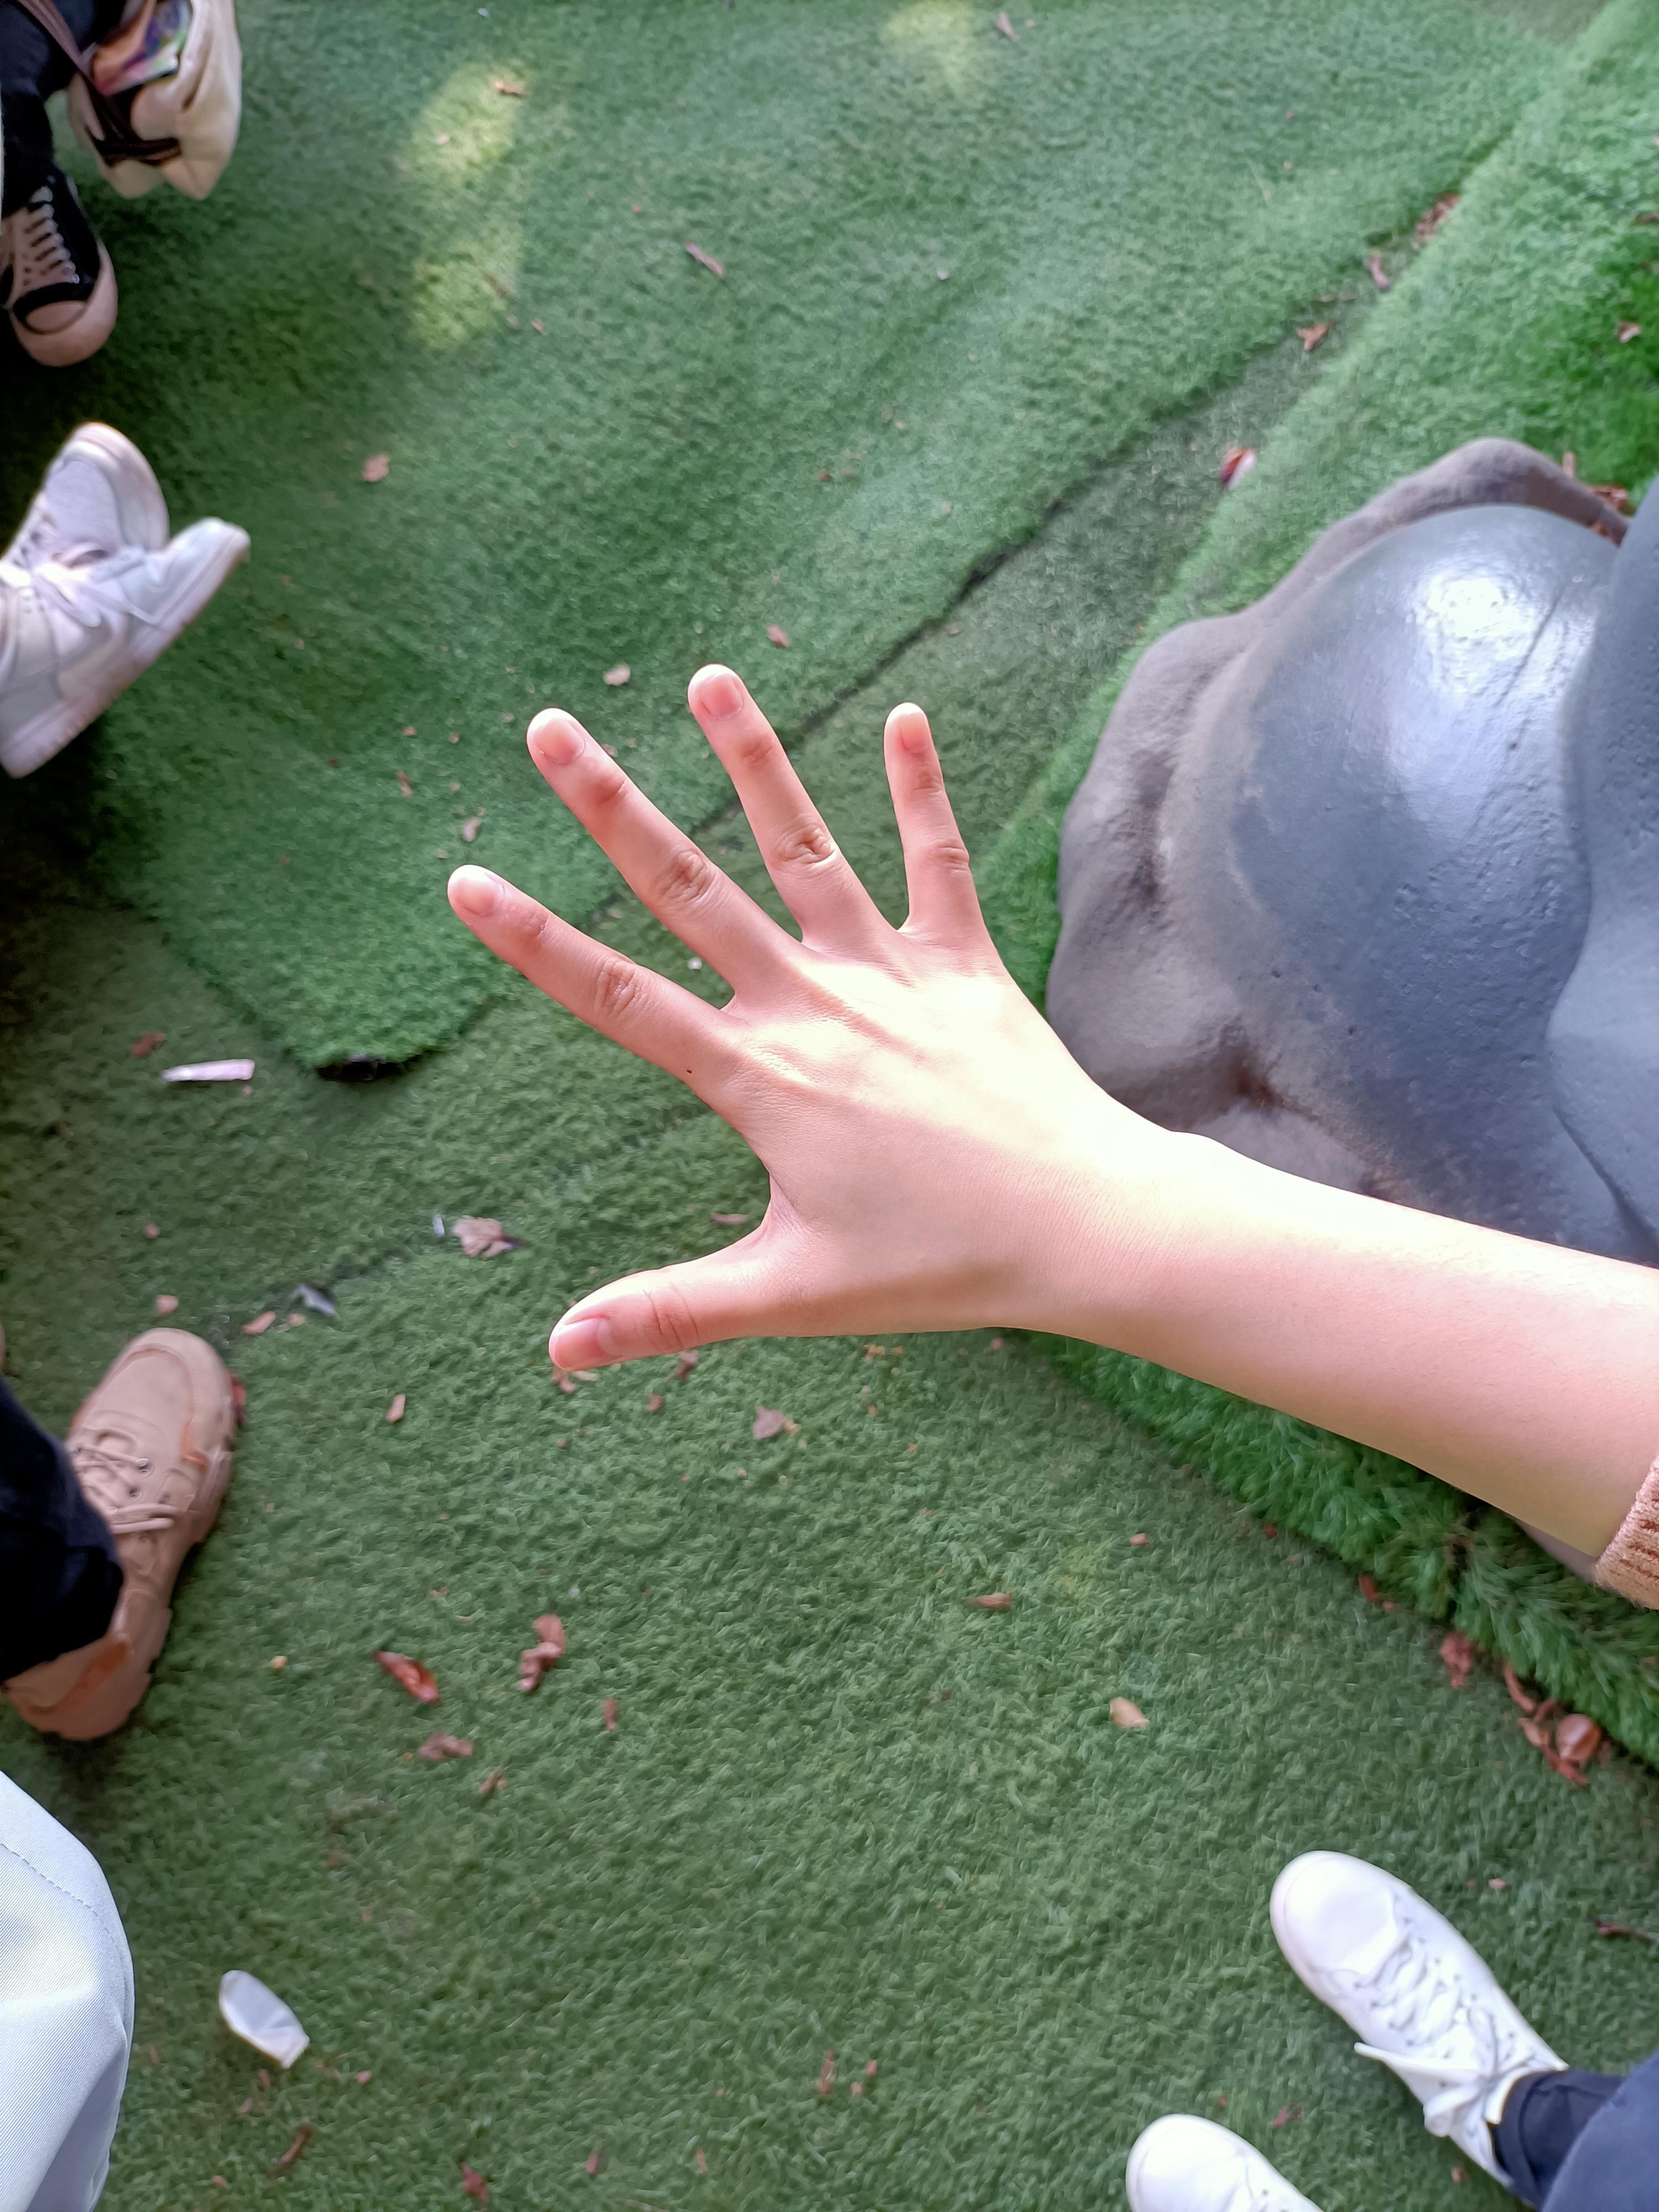hand: (444, 662, 1084, 1378)
